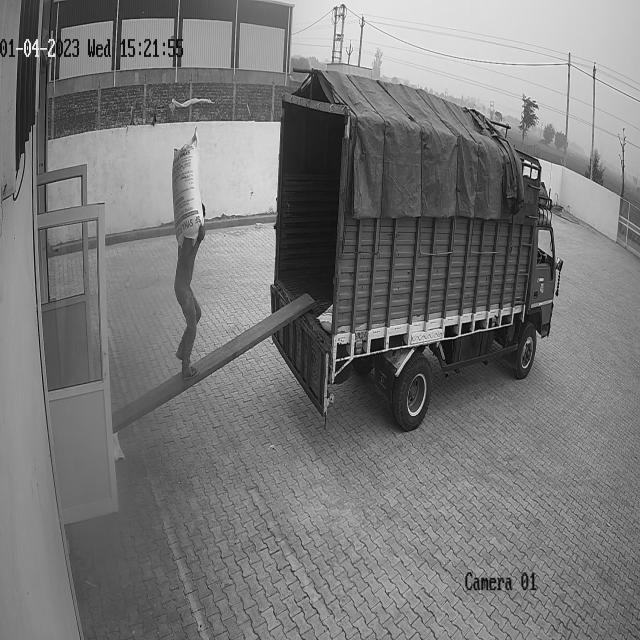sack: (172, 129, 204, 246)
